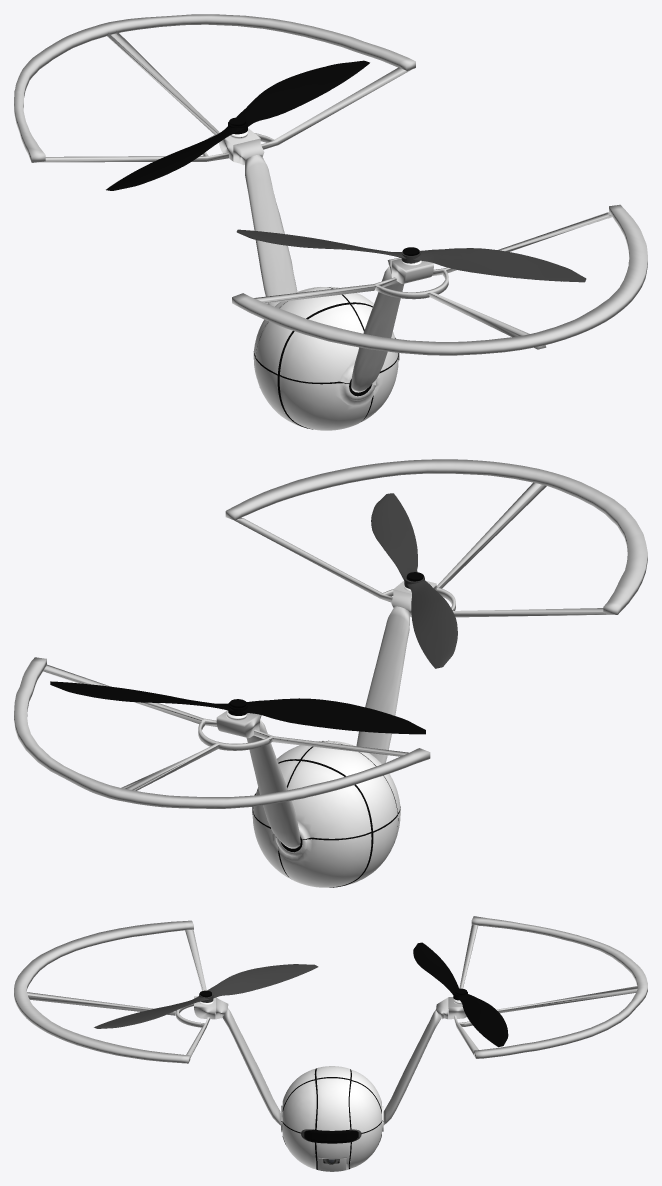
File: tbot.glb
3 renders of one model, top to bottom at view 1: azimuth 30°, elevation 25°; view 2: azimuth 150°, elevation 25°; view 3: azimuth 270°, elevation 25°, orthographic. The views are drawn at different scales.
Visible parts, largest first — view 1: Cube.005, Plane.002, Plane.004, Object_2.001, Object_2, Cube.003, Cube.006; view 2: Cube.005, Plane.002, Plane.004, Object_2.001, Object_2, Cube.006, Cube.003; view 3: Cube.005, Plane.002, Plane.004, Object_2, Object_2.001, Cube.006, Cube.003, Cube.001.
Part boxes in pixels (x1,y1,x2,y2): Cube.005: (253,286,398,430); Plane.002: (232,204,647,355); Plane.004: (14,14,415,162); Object_2.001: (106,60,369,190); Object_2: (236,229,586,282); Cube.003: (218,128,297,306); Cube.006: (351,257,433,392); Cube.005: (252,740,400,887); Plane.002: (225,459,647,617); Plane.004: (14,657,430,808); Object_2.001: (50,681,425,734); Object_2: (371,493,457,668); Cube.006: (356,581,436,764); Cube.003: (216,710,300,848); Cube.005: (281,1066,383,1171); Plane.002: (14,920,210,1063); Plane.004: (454,916,647,1058); Object_2: (94,964,318,1028); Object_2.001: (413,942,508,1047); Cube.006: (194,996,280,1125); Cube.003: (383,997,466,1125); Cube.001: (301,1129,361,1143).
Size of the model in its own units: 14.87 by 8.79 by 28.16.
Materials: 23 (3 with a texture image).
